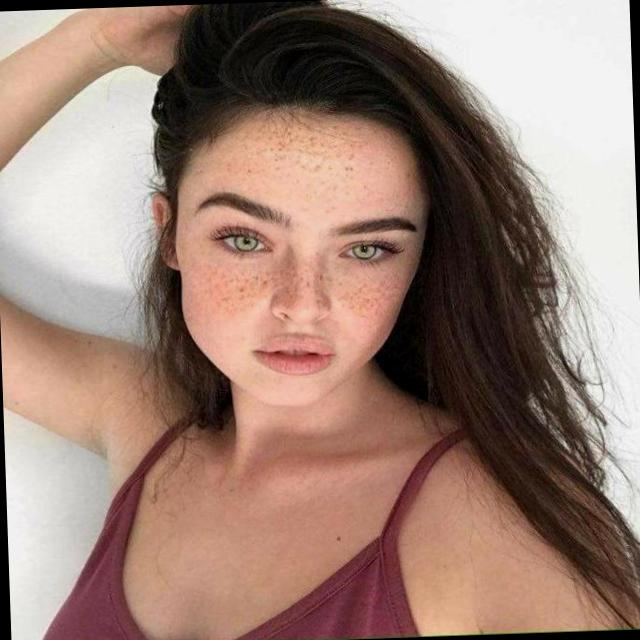freckle: (186, 244, 406, 330), (235, 108, 368, 218)
